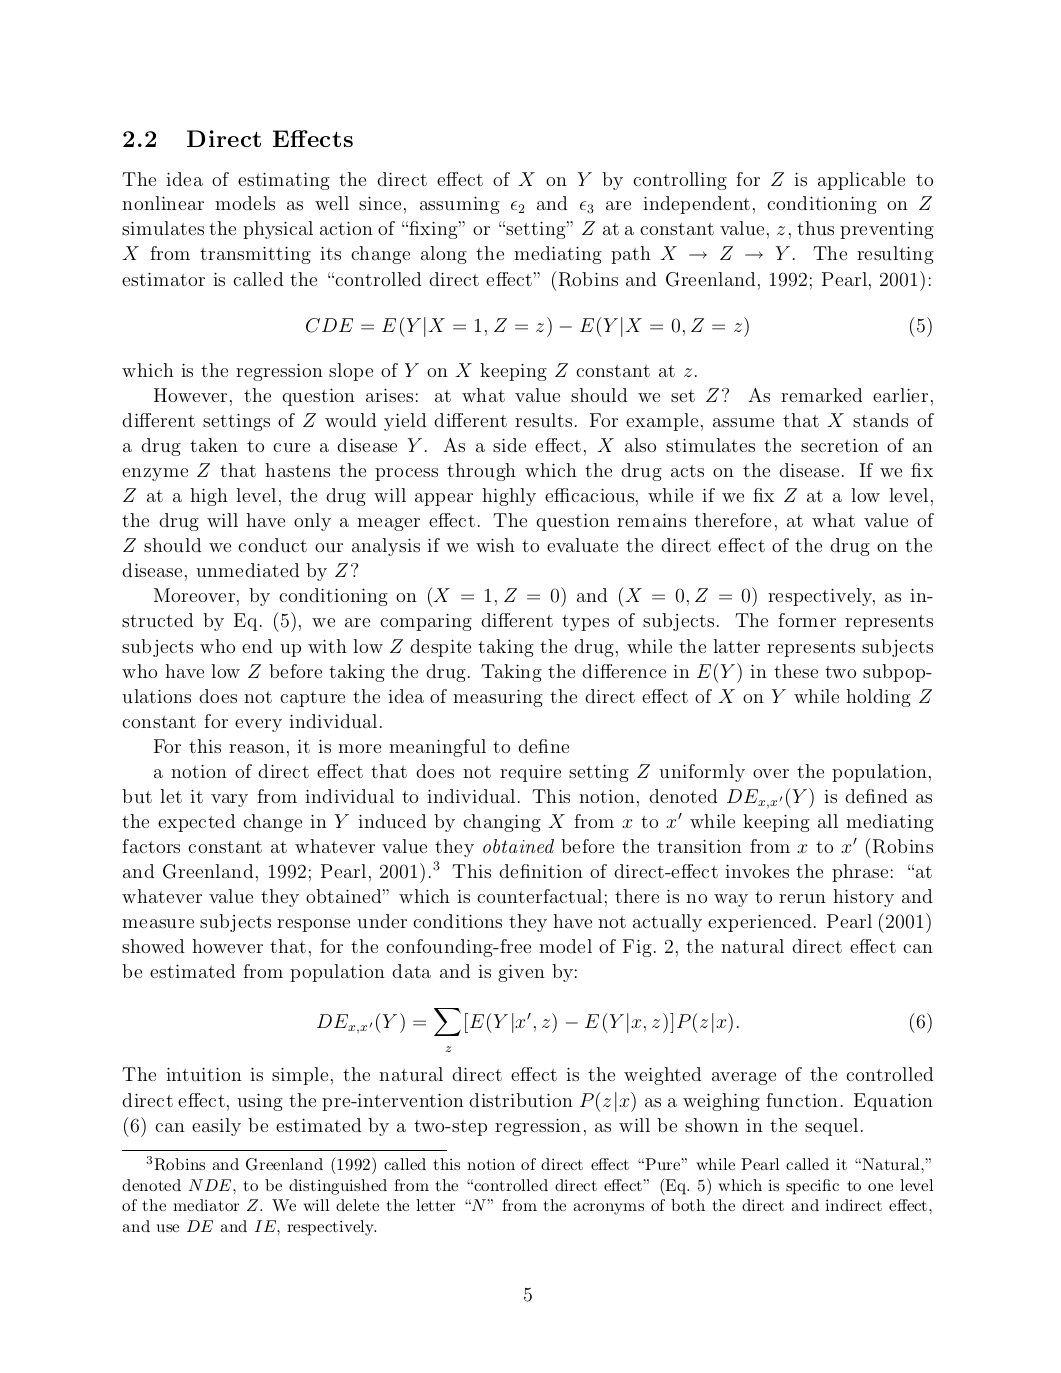formula: (317, 1007, 931, 1051), (306, 317, 931, 337)
